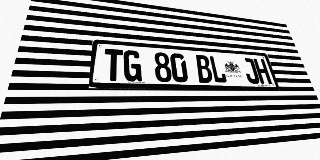0: (170, 53, 188, 82)
8: (154, 52, 172, 82)
B: (194, 55, 214, 83)
G: (123, 50, 142, 82)
H: (253, 59, 272, 84)
J: (241, 58, 260, 84)
L: (208, 56, 228, 83)
T: (103, 49, 123, 81)
